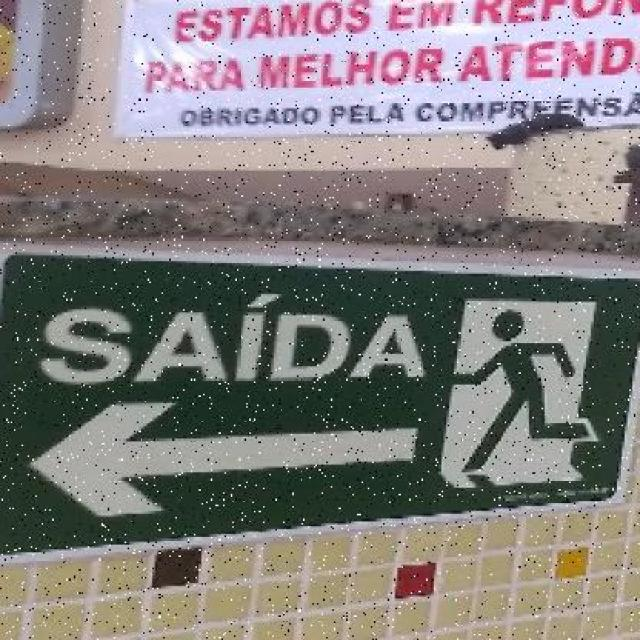exit_sign: (0, 223, 632, 566)
